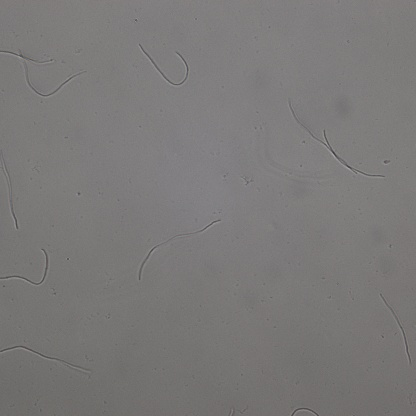Sensitive: (289, 101, 385, 178), (137, 220, 219, 280), (21, 49, 86, 98), (1, 344, 87, 373), (381, 294, 412, 364), (140, 45, 191, 86), (1, 248, 50, 286), (1, 154, 18, 228), (1, 47, 54, 64)
